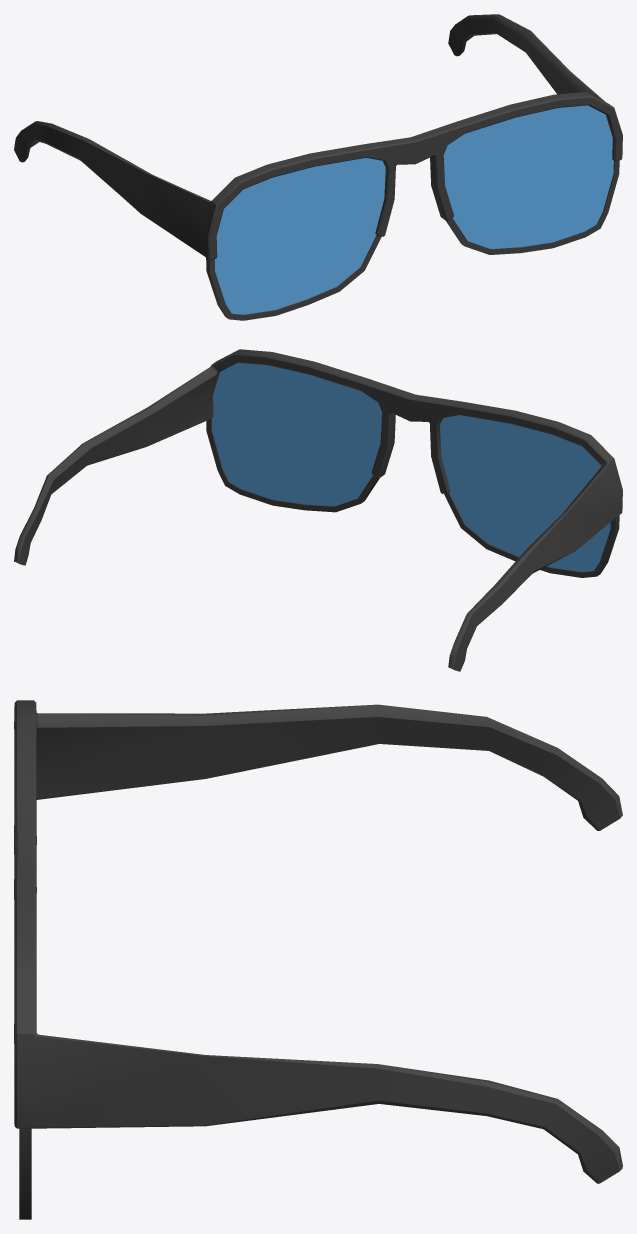
File: Glasses_001.glb
3 views of the same model, one above another, from view 1: azimuth 30°, elevation 25°; view 2: azimuth 150°, elevation 25°; view 3: azimuth 270°, elevation 25° (orthographic). The views are drawn at different scales.
Visible parts, largest first — view 1: Glasses_001; view 2: Glasses_001; view 3: Glasses_001.
Part boxes in pixels (box(x1,y1,x2,y2)): Glasses_001: box(14, 14, 622, 320); Glasses_001: box(14, 349, 622, 671); Glasses_001: box(14, 700, 622, 1219).
Size of the model in its own units: 0.444 by 0.1384 by 0.3066.
1 material, 1 textured.
